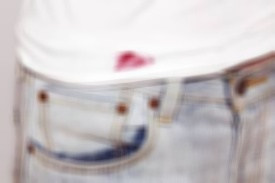lipstick: (110, 48, 152, 74)
